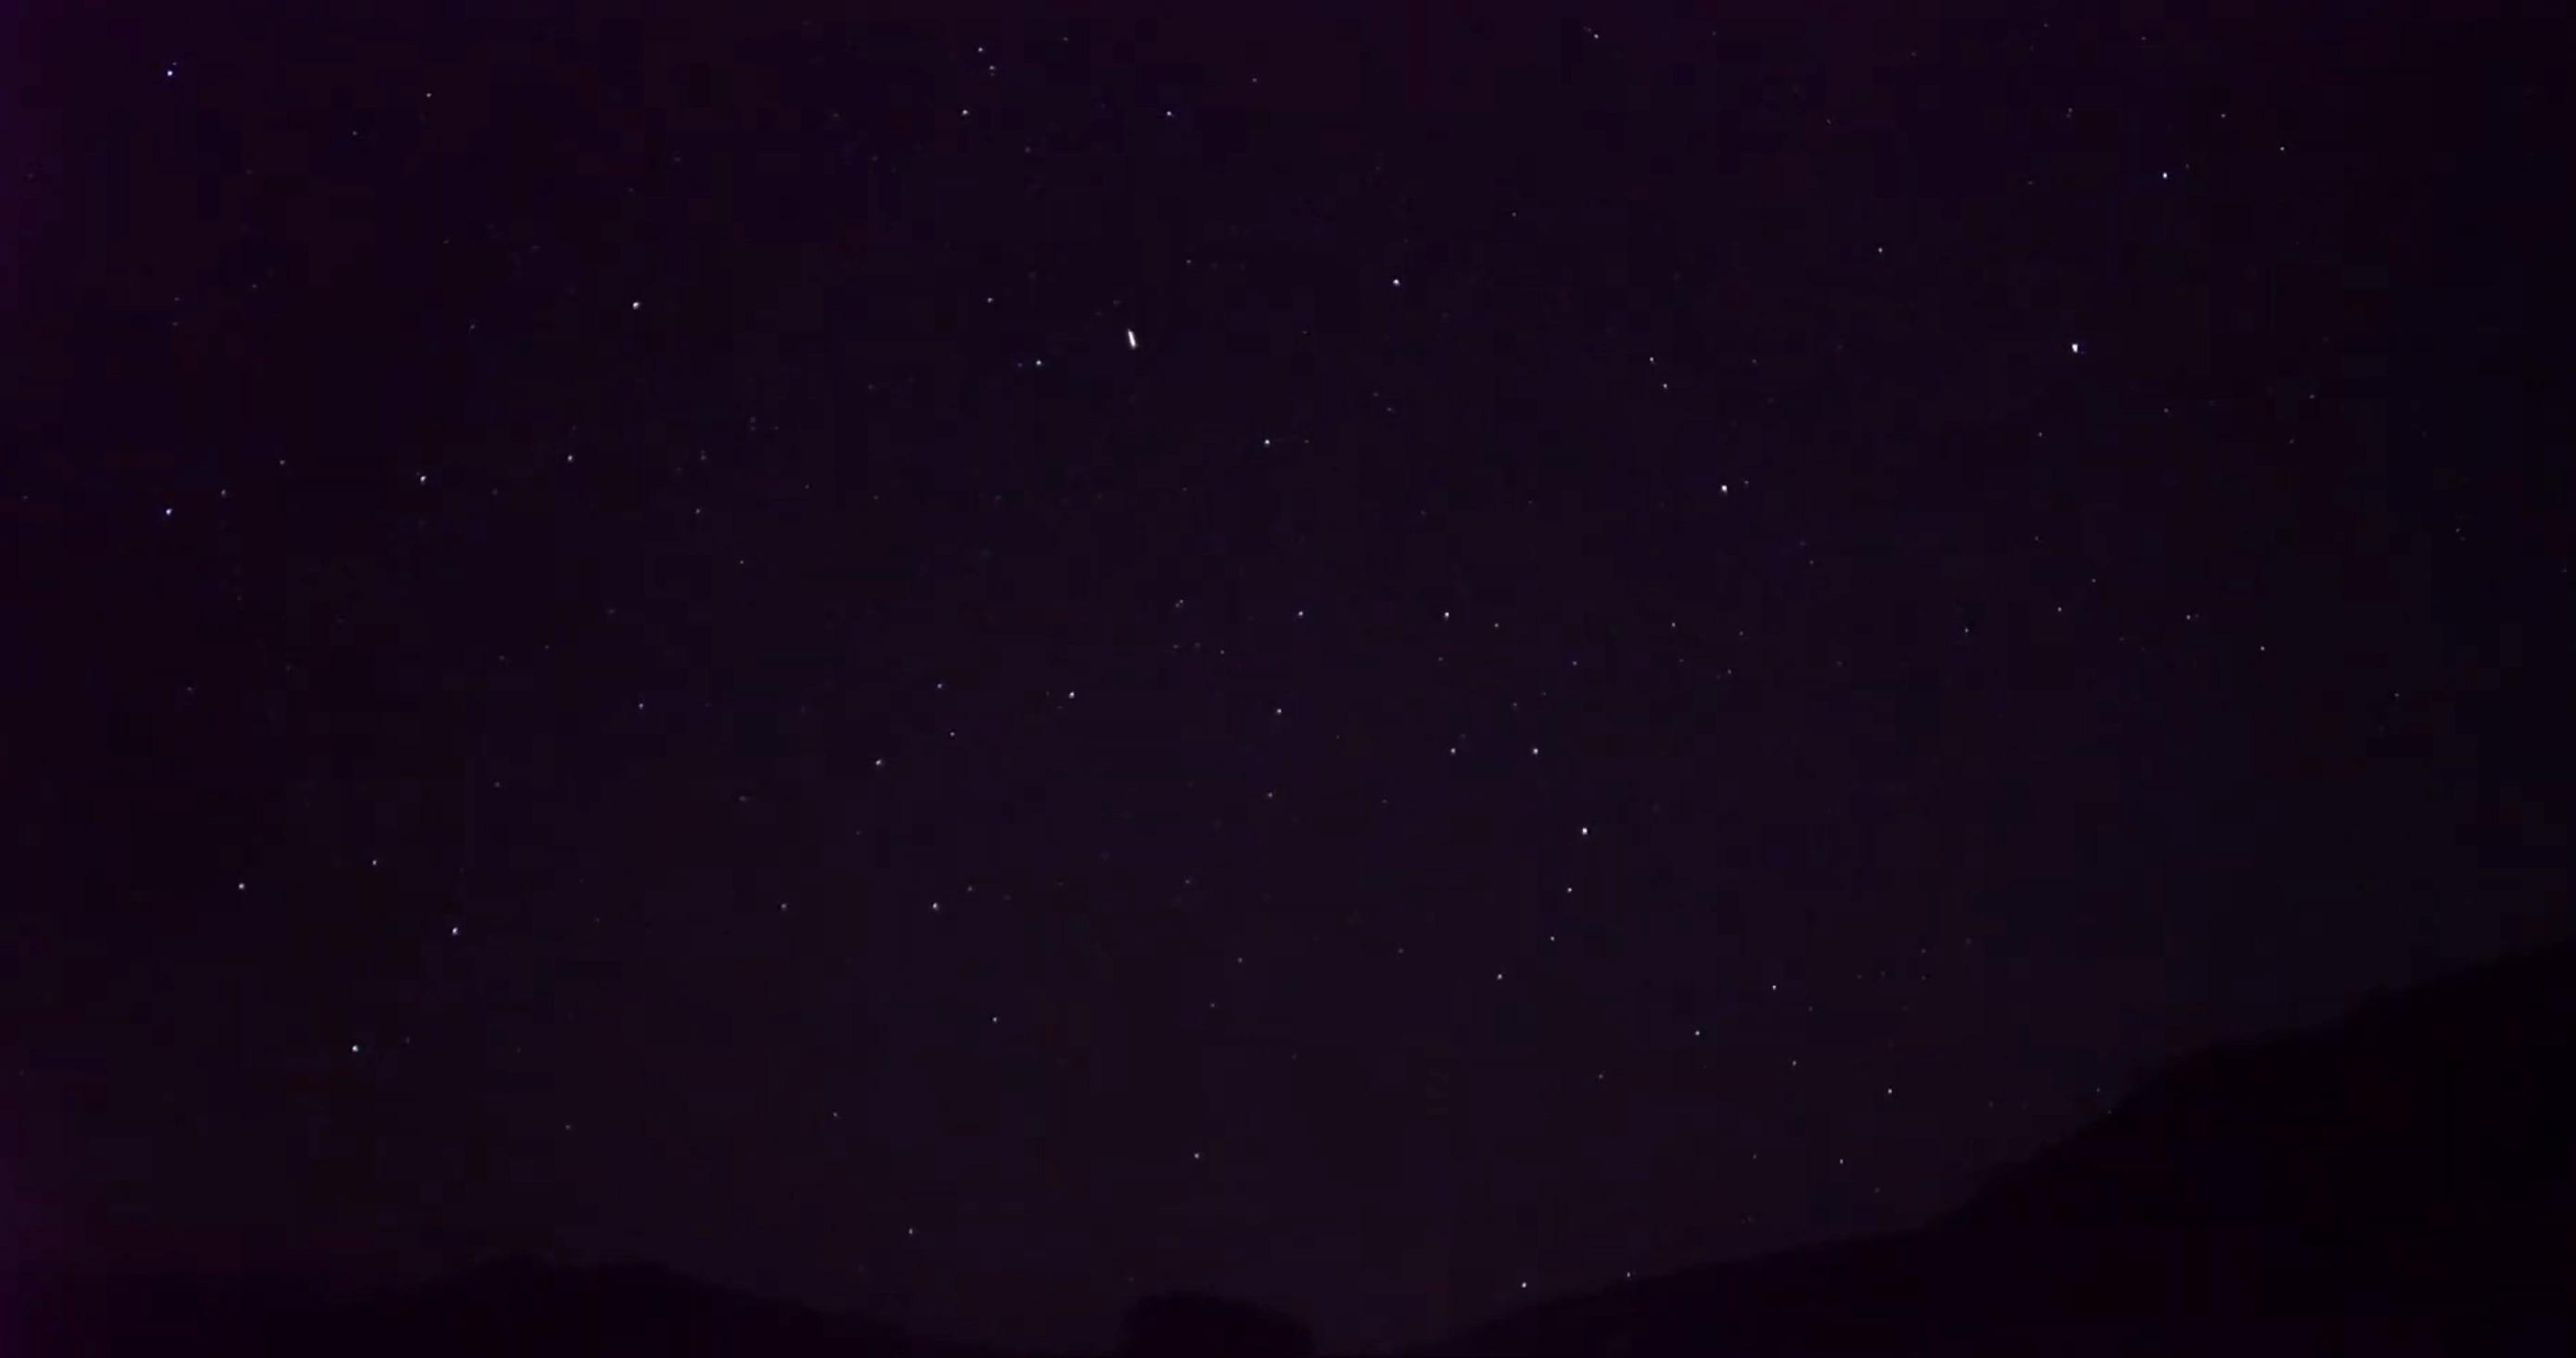meteorite: (1109, 320, 1179, 360)
